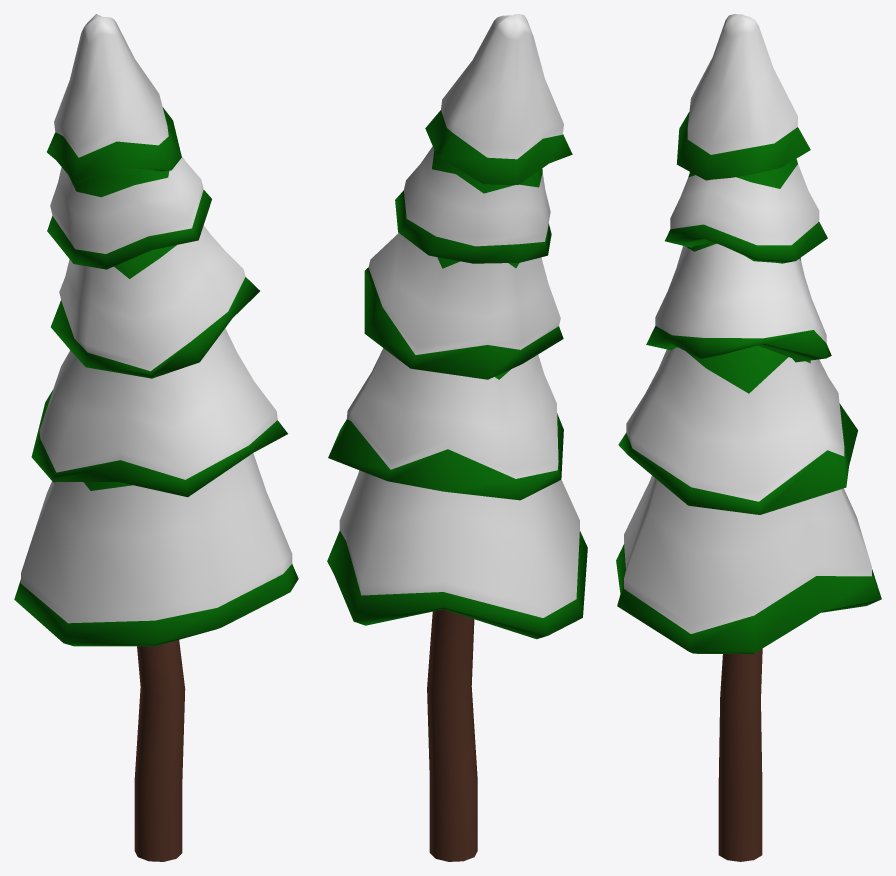
The model's file is PineTreeA2.fbx.
3 views of the same model, side by side, from view 1: azimuth 30°, elevation 25°; view 2: azimuth 150°, elevation 25°; view 3: azimuth 270°, elevation 25° (orthographic). The views are drawn at different scales.
Visible parts, largest first — view 1: leaves1, trunk3; view 2: leaves1, trunk3; view 3: leaves1, trunk3.
Part boxes in pixels (x1,y1,x2,y2): leaves1: [14, 14, 298, 646]; trunk3: [134, 640, 185, 861]; leaves1: [327, 14, 587, 639]; trunk3: [427, 609, 477, 861]; leaves1: [616, 14, 881, 653]; trunk3: [718, 648, 762, 861].
Size of the model in its own units: 620 by 2121 by 631.
